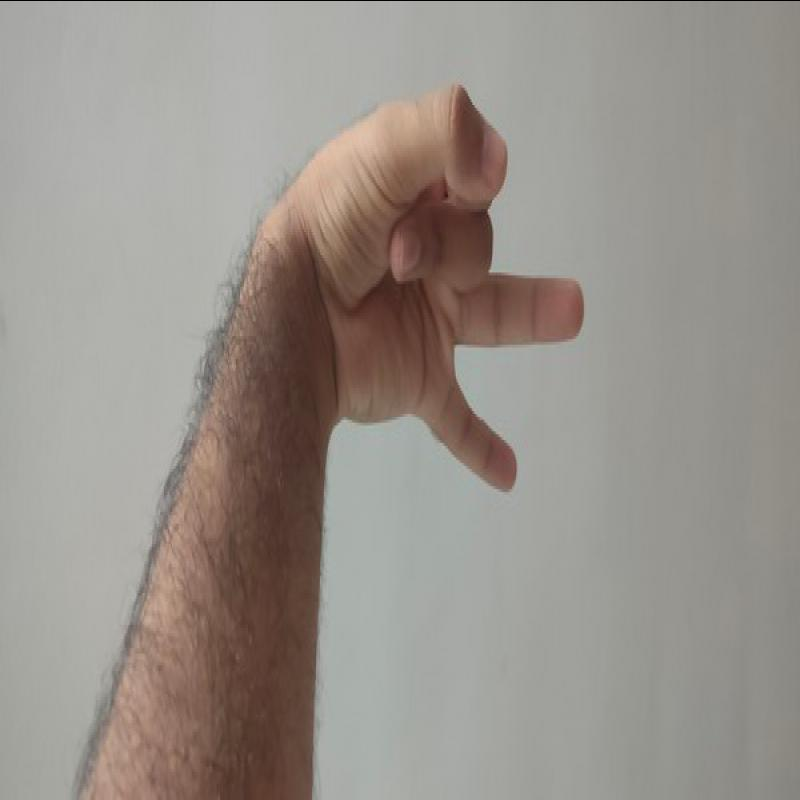Katakam: (300, 73, 597, 501)
